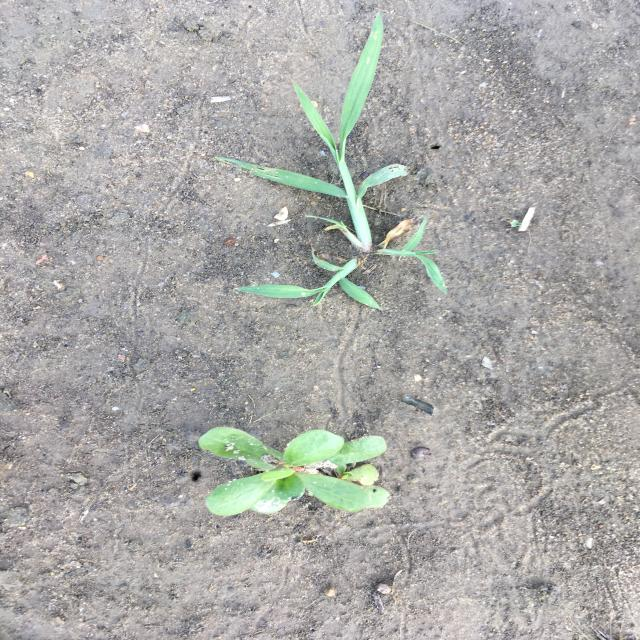Goosegrass: (208, 9, 451, 311)
Purslane: (197, 426, 393, 518)
